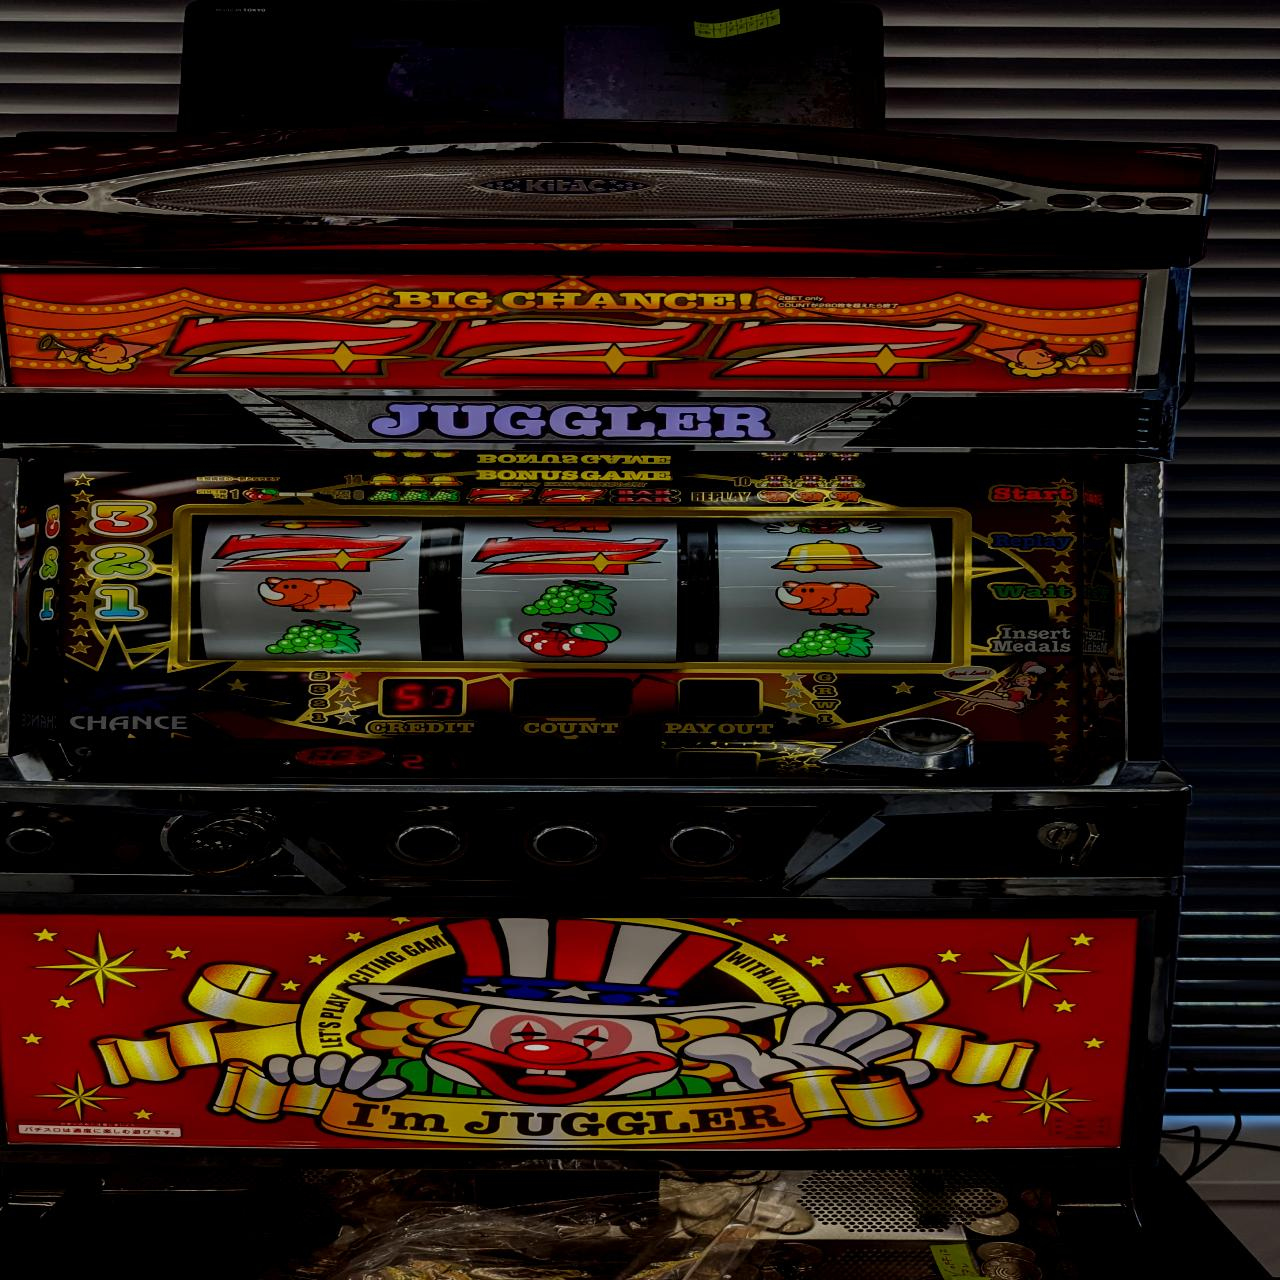7: (470, 535, 667, 581), (212, 531, 414, 573)
8: (248, 574, 370, 615), (768, 579, 879, 618)
Display: (184, 505, 958, 666)
bell: (764, 537, 890, 573)
cherry: (511, 619, 626, 660)
grape: (261, 615, 368, 658), (518, 577, 619, 618), (775, 620, 874, 660)
